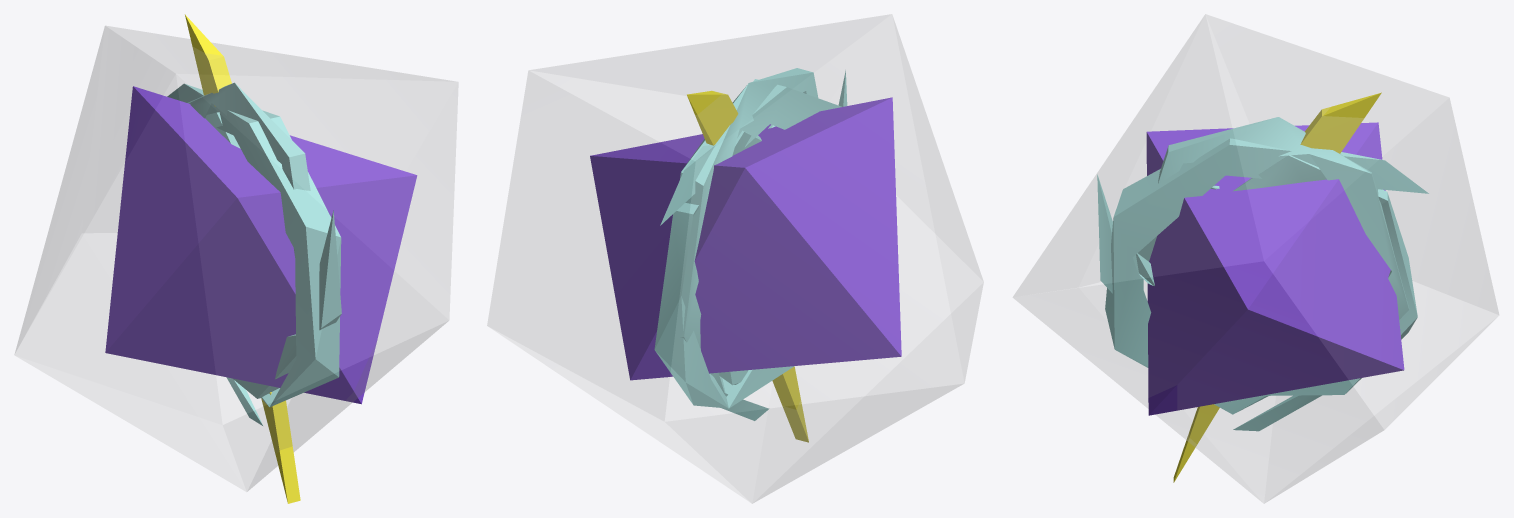
File: MultiGamePowerups.fbx
3 renders of one model, left to right at view 1: azimuth 30°, elevation 25°; view 2: azimuth 150°, elevation 25°; view 3: azimuth 270°, elevation 25°, orthographic. The views are drawn at different scales.
Visible parts, largest first — view 1: Icosphere.001, Plane.001, Plane.002, Plane, Plane.003; view 2: Icosphere.001, Plane.003, Plane.002, Plane.001, Plane; view 3: Icosphere.001, Plane.001, Plane.002, Plane.003, Plane.
Boxes of the visible parts, bbox=[...] form: Icosphere.001: bbox=[14, 26, 458, 491]; Plane.001: bbox=[167, 83, 341, 407]; Plane.002: bbox=[188, 82, 310, 425]; Plane: bbox=[185, 14, 300, 503]; Plane.003: bbox=[205, 112, 341, 398]; Icosphere.001: bbox=[487, 14, 983, 503]; Plane.003: bbox=[654, 70, 847, 408]; Plane.002: bbox=[680, 68, 818, 420]; Plane.001: bbox=[660, 79, 841, 385]; Plane: bbox=[687, 90, 808, 442]; Icosphere.001: bbox=[1013, 14, 1498, 503]; Plane.001: bbox=[1105, 138, 1428, 414]; Plane.002: bbox=[1136, 117, 1409, 431]; Plane.003: bbox=[1097, 155, 1417, 395]; Plane: bbox=[1173, 92, 1381, 482].
Bounding box in the file's own units: 1.17 × 1.22 × 1.21.
